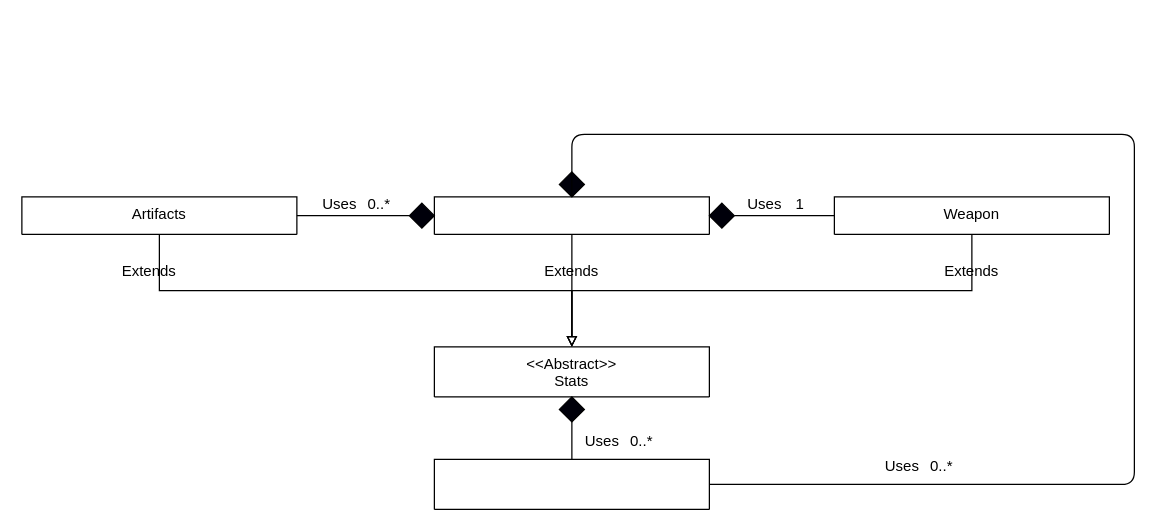
Image size: 1158x531. Some labels were removed from this diagram. Each missing label, with the box of its shape:
Attributes: (433, 458, 709, 509)
Character: (433, 196, 709, 234)
